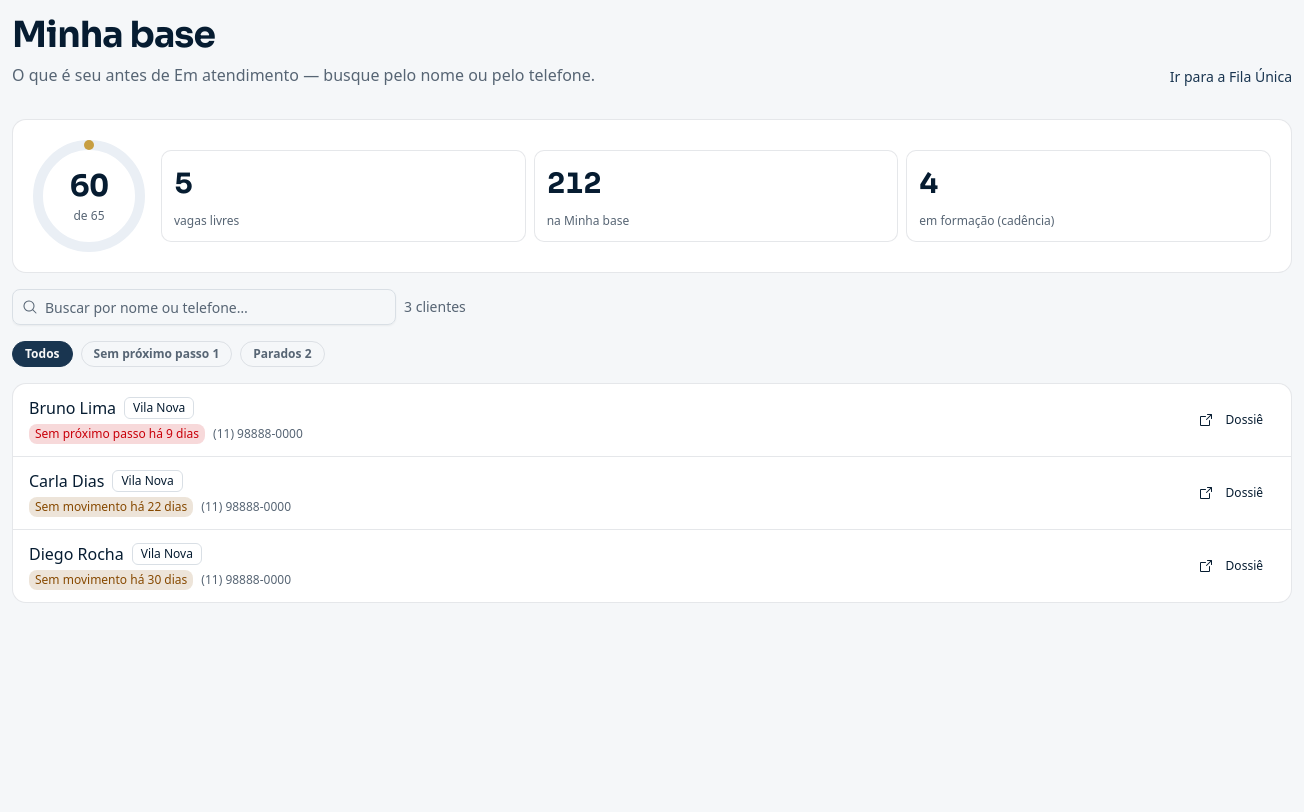
Test: Minha base — motivos › os chips por motivo filtram a lista e 'Todos' volta
Expected: the number of list items is 3, [13,384,1291,457]; [13,457,1291,530]; [13,530,1291,602]
Step 1. Click the button "Parados 2" → (282, 354), box [240,341,324,367]
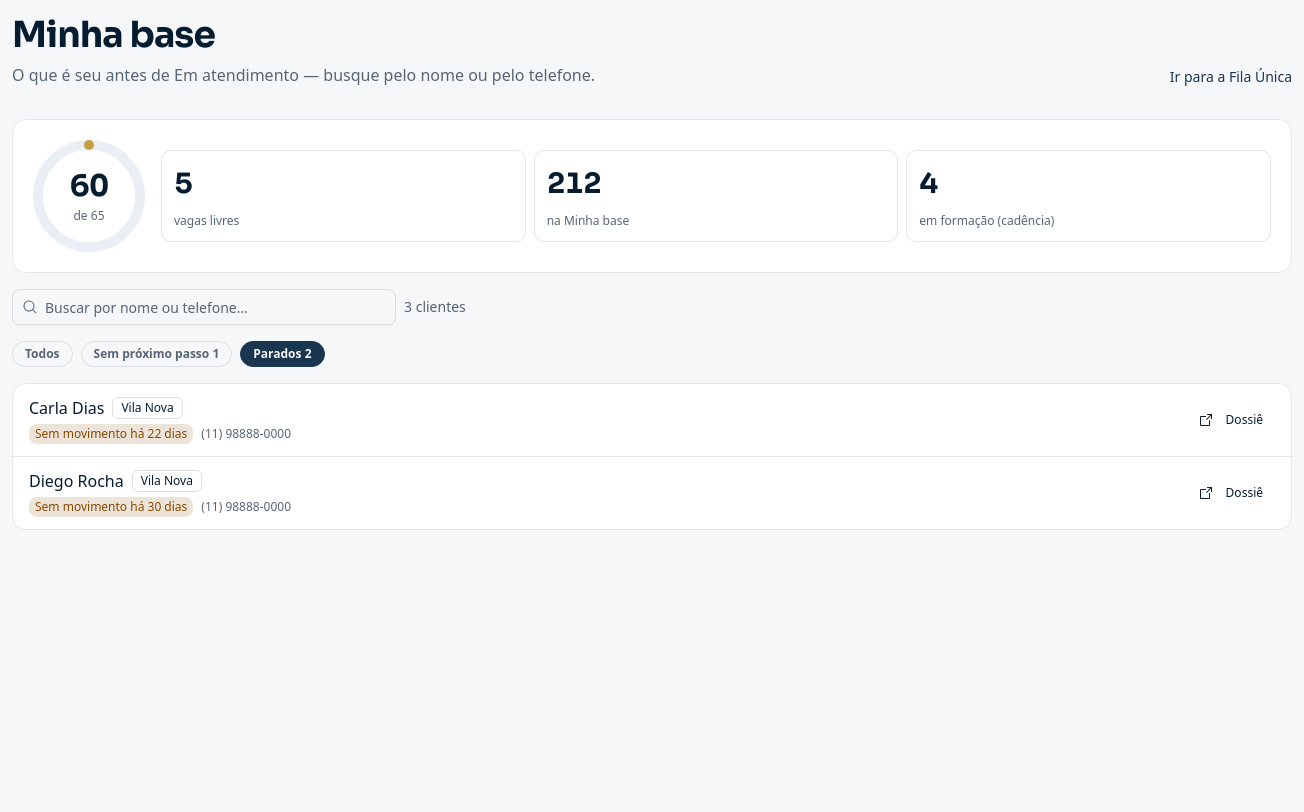
Now the number of list items is 2, box [13,384,1291,457]; [13,457,1291,529]
Now the text "Bruno Lima" is gone
Step 2. Click the button "Todos" → (42, 354), box [12,341,72,367]
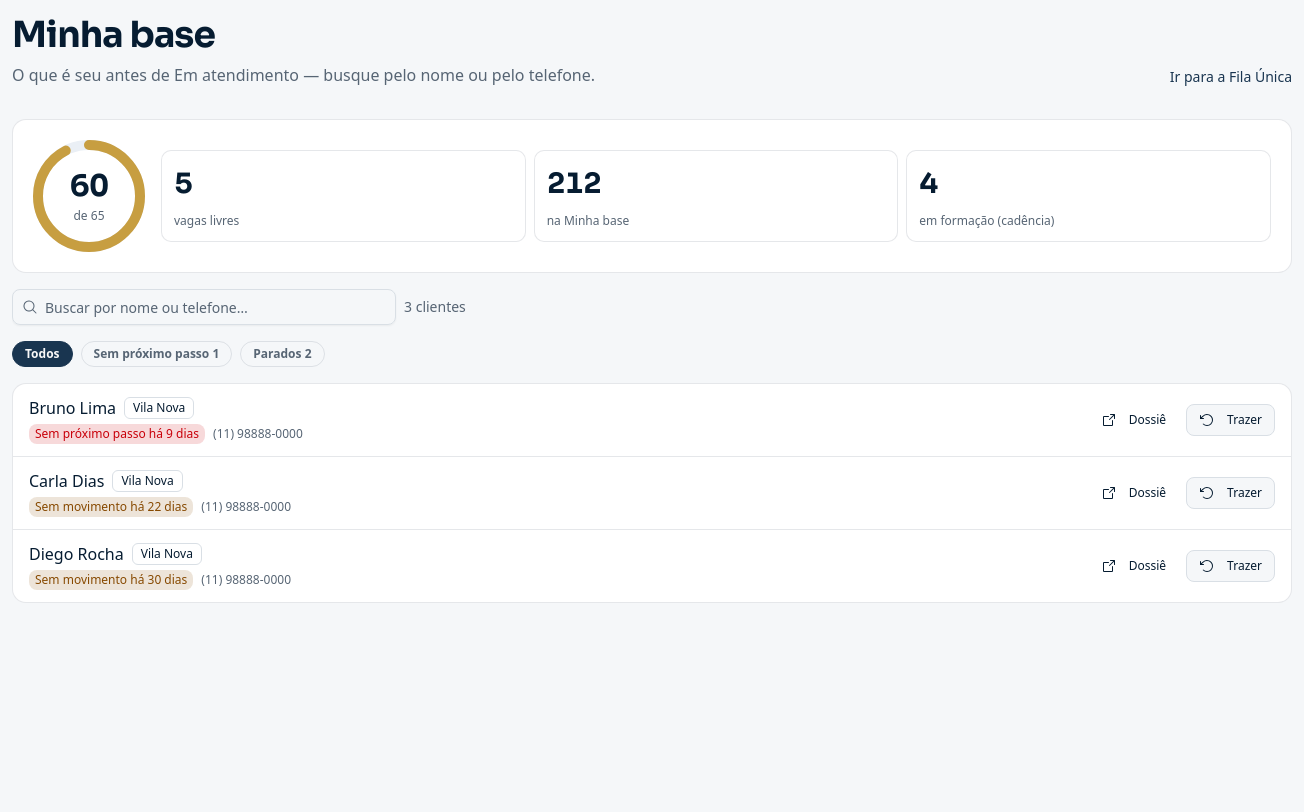
Now the number of list items is 3, box [13,384,1291,457]; [13,457,1291,530]; [13,530,1291,602]
